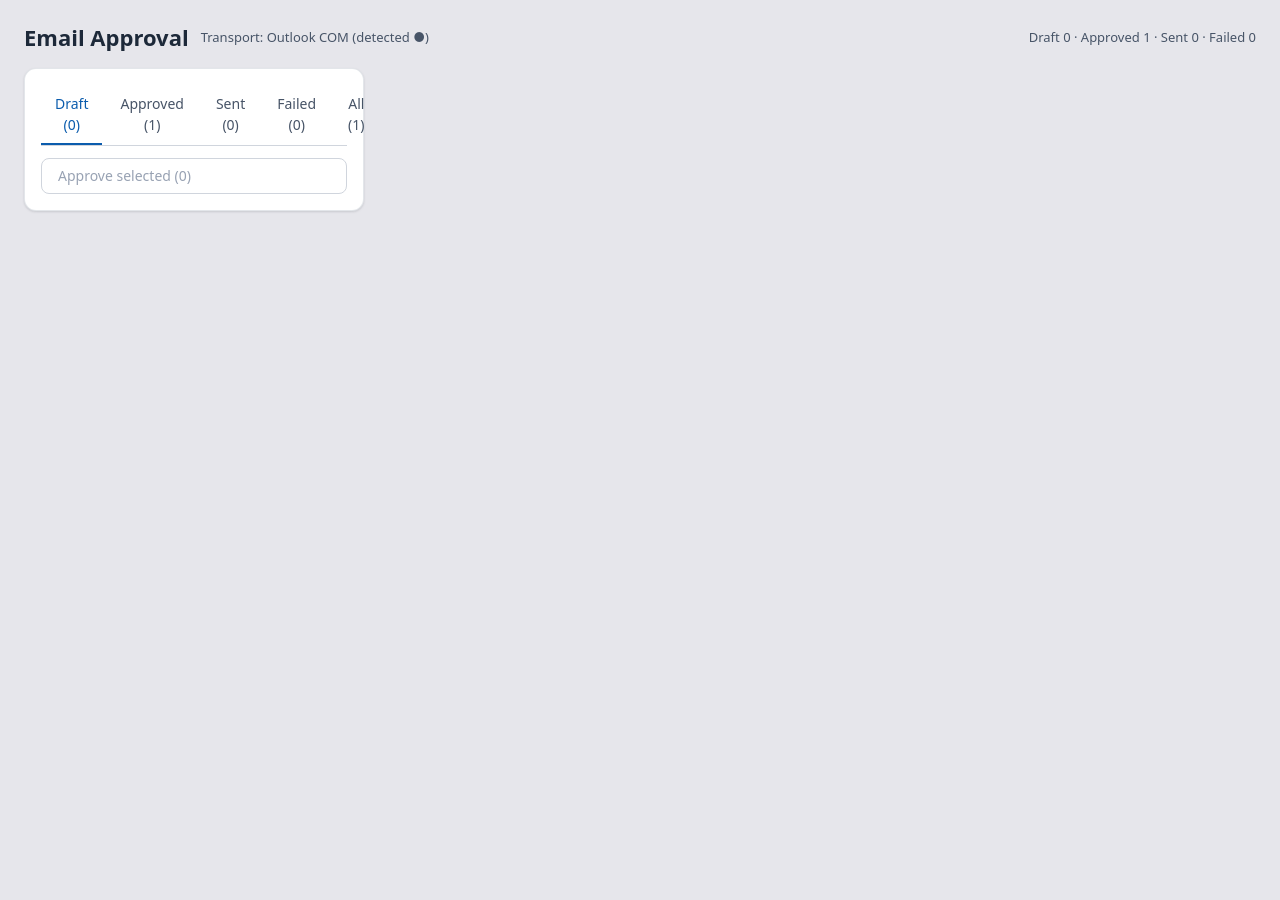
Scenario: EmailApprovalPage transport handoff › keeps the COM send button unchanged
What coordinates should you click on to do the following:
click the tab "Approved (1)"
I would click on:
 (152, 114)
Its box is [106,84,198,144].
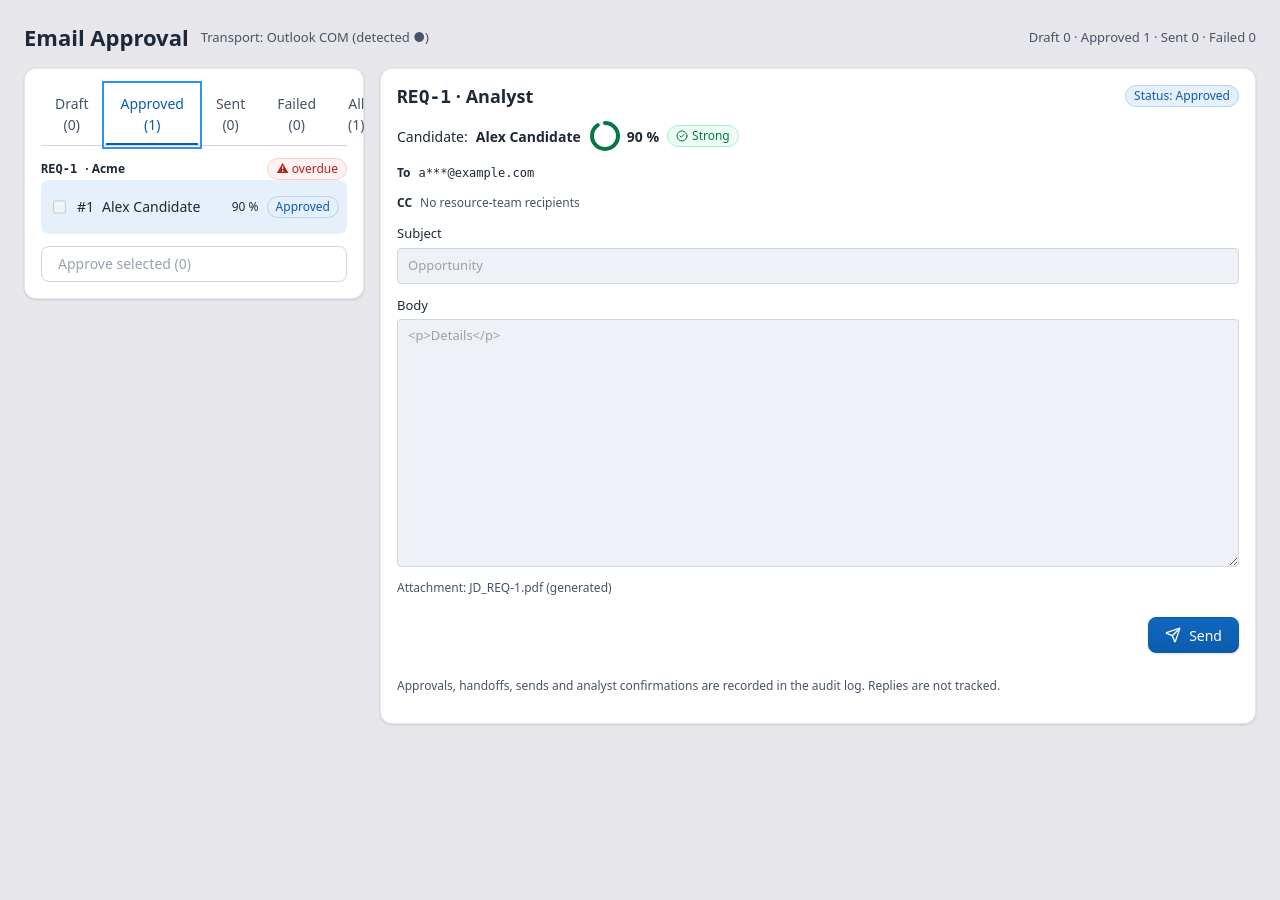
Result: the button "Send" is shown at [1148,617,1239,653]
